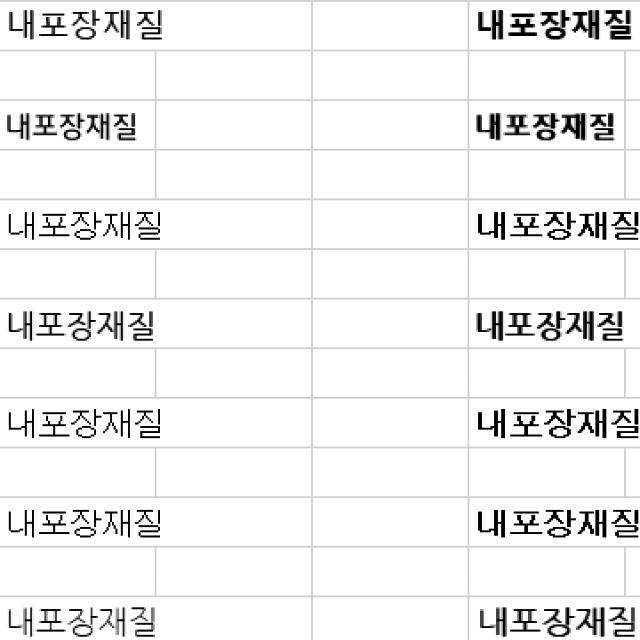bold: (472, 203, 640, 250), (471, 304, 629, 350), (471, 103, 622, 149), (472, 4, 636, 46), (473, 404, 640, 444), (476, 504, 640, 544), (475, 603, 640, 640)
normal: (6, 400, 170, 448), (6, 302, 161, 348), (4, 598, 170, 640), (4, 204, 168, 246), (2, 504, 174, 544), (2, 2, 170, 42), (2, 104, 142, 142)
